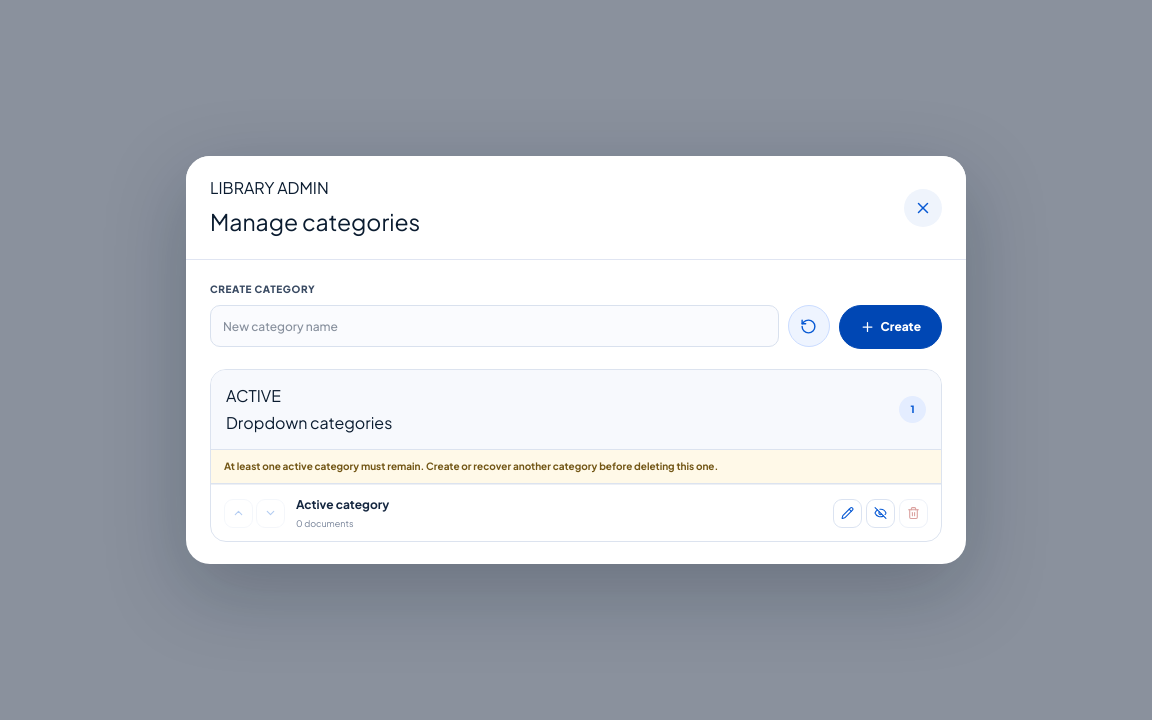
accessible controls › confirms permanent category deletion, shows progress, and announces success
Step 1. Click the button named "Open category recovery (1)" → (808, 326), box x1=788 y1=305 x2=830 y2=347
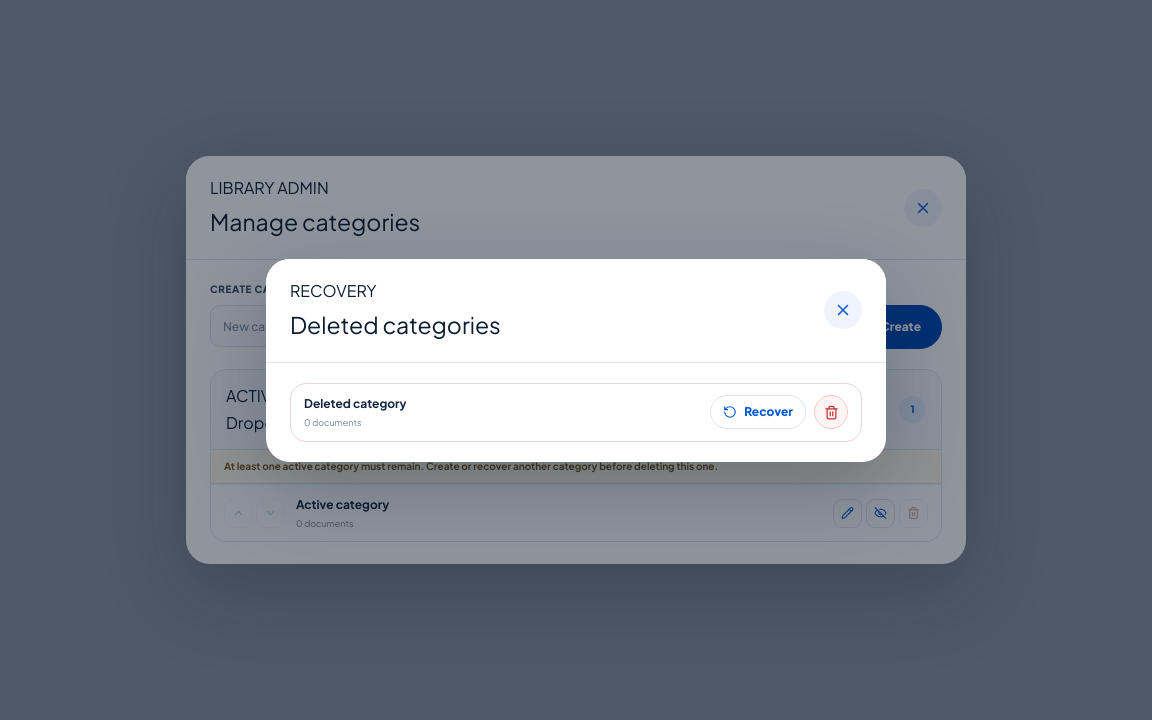
Step 2. Click the button named "Permanently delete Deleted category" → (831, 412), box x1=814 y1=395 x2=848 y2=429
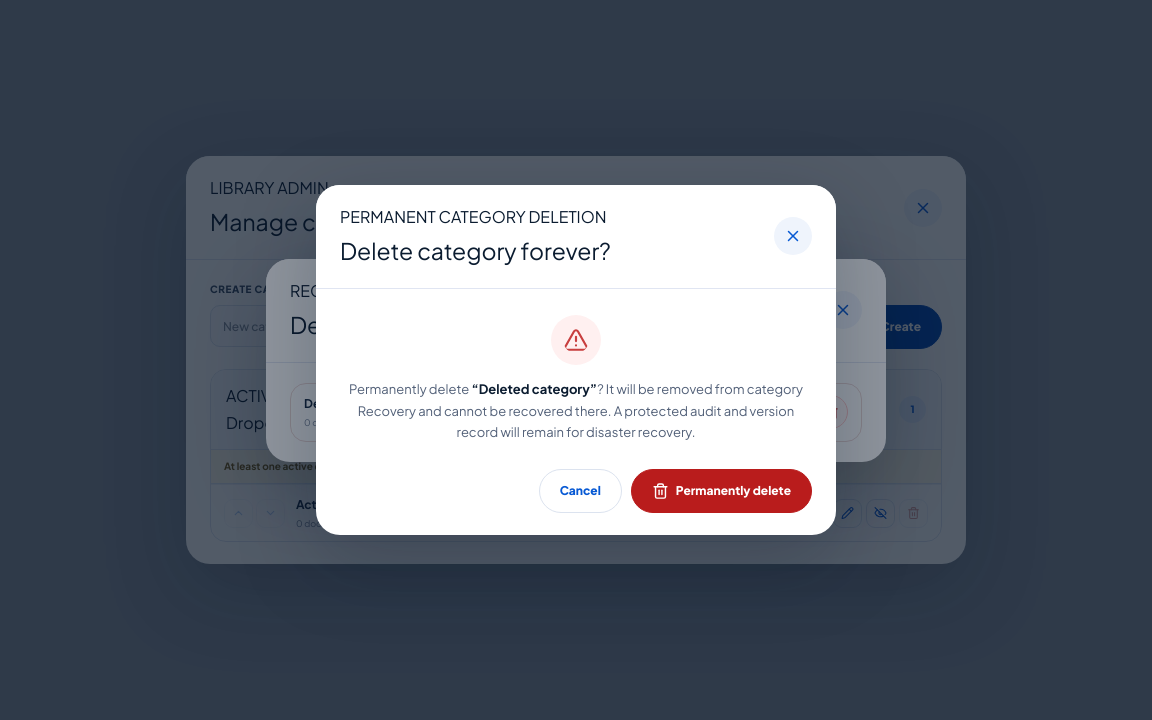
Expected: the text "protected audit and version record" is shown, x1=358 y1=381 x2=803 y2=440
Step 3. Click the button "Permanently delete" → (721, 491), box x1=631 y1=469 x2=812 y2=513
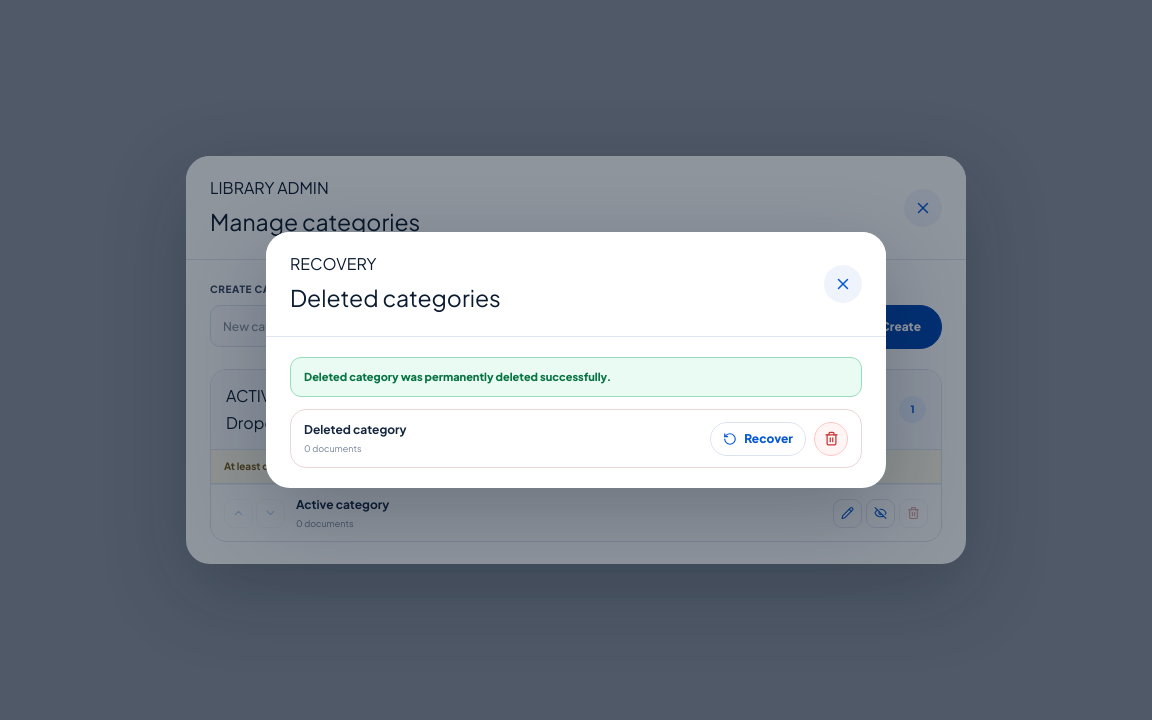
Expected: the message reads "Deleted category was permanently deleted successfully.", x1=304 y1=370 x2=611 y2=383
